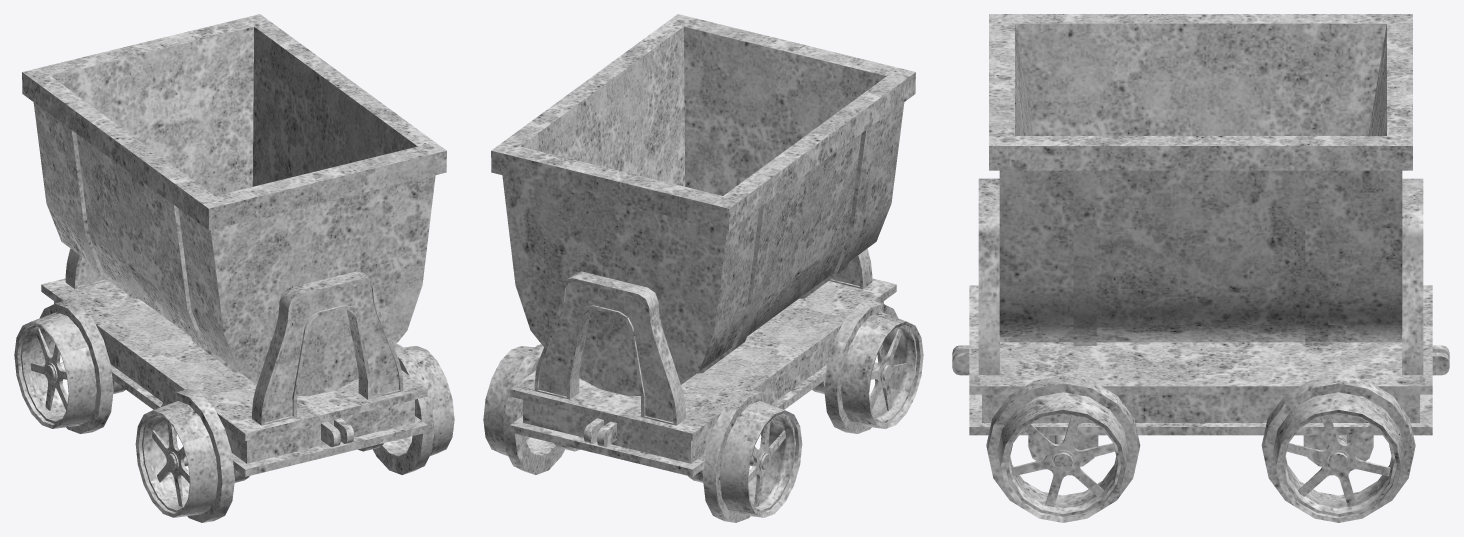
Rendered from Basic Mining Cart.obj.
3 views of the same model, side by side, from view 1: azimuth 30°, elevation 25°; view 2: azimuth 150°, elevation 25°; view 3: azimuth 270°, elevation 25° (orthographic). The views are drawn at different scales.
Parts seen in each view (by area): view 1: Minecart; view 2: Minecart; view 3: Minecart.
Boxes of the visible parts, box(x1,y1,x2,y2) form: Minecart: box(14, 14, 454, 522); Minecart: box(483, 14, 923, 522); Minecart: box(952, 14, 1449, 522).
Bounding box in the file's own units: 4.55 × 5.56 × 6.54.
